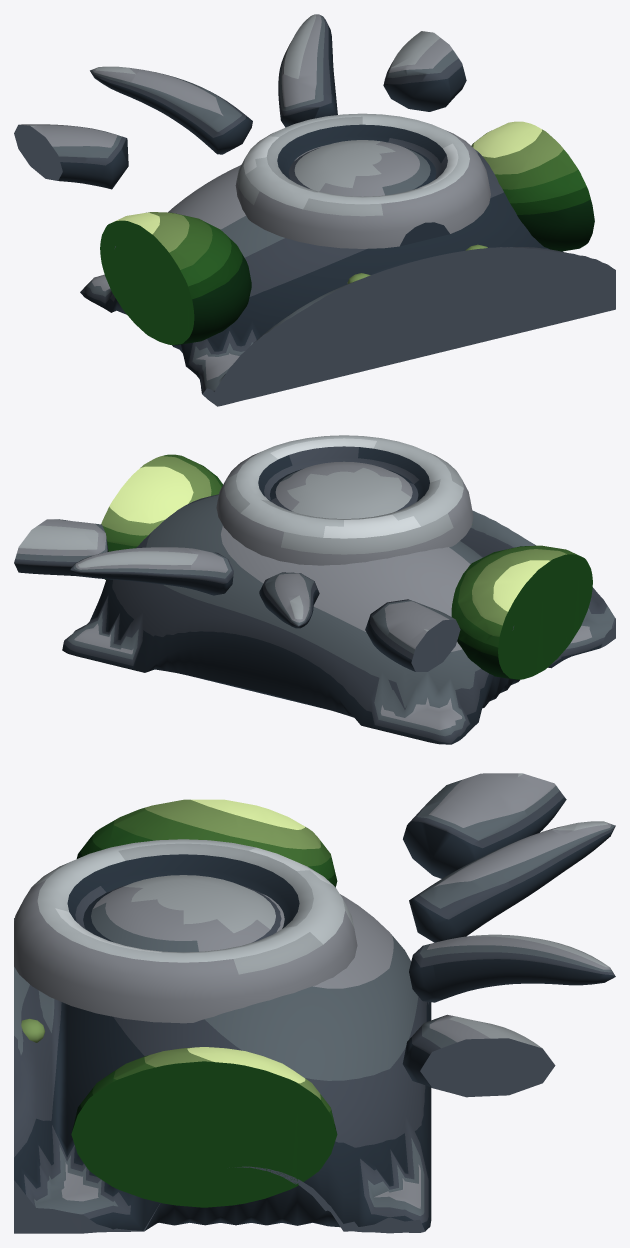
The model's file is torm_beetle_tm.glb.
The picture shows the model from 3 angles, top to bottom: view 1: azimuth 30°, elevation 25°; view 2: azimuth 150°, elevation 25°; view 3: azimuth 270°, elevation 25°; orthographic projection. The views are drawn at different scales.
Parts seen in each view (by area): view 1: torm_beetle_tm; view 2: torm_beetle_tm; view 3: torm_beetle_tm.
Boxes of the visible parts, bbox=[...] form: torm_beetle_tm: bbox=[14, 14, 615, 406]; torm_beetle_tm: bbox=[14, 435, 615, 744]; torm_beetle_tm: bbox=[14, 773, 615, 1233].
Bounding box in the file's own units: 24 × 9.18 × 23.08.
